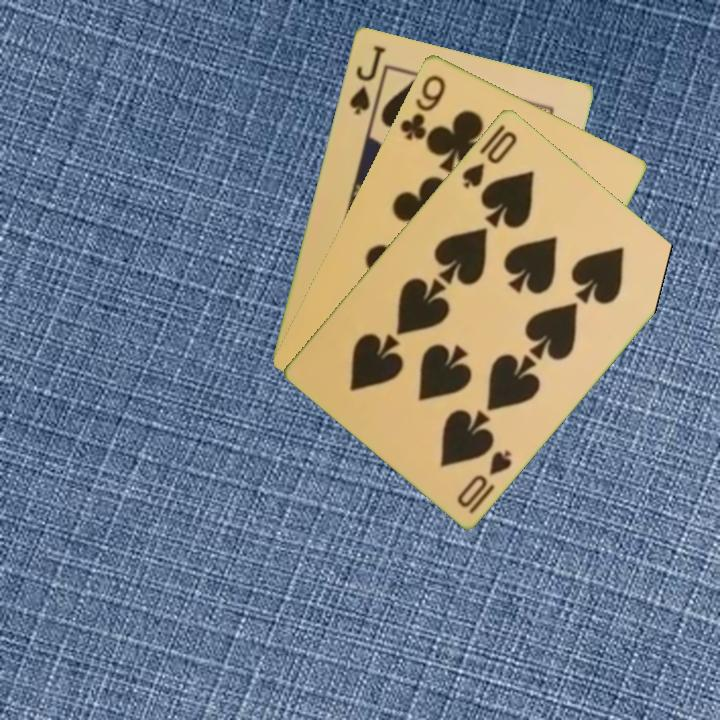10s: (453, 445, 515, 516), (458, 126, 521, 191)
9c: (396, 71, 449, 143)
Js: (345, 41, 388, 117)
